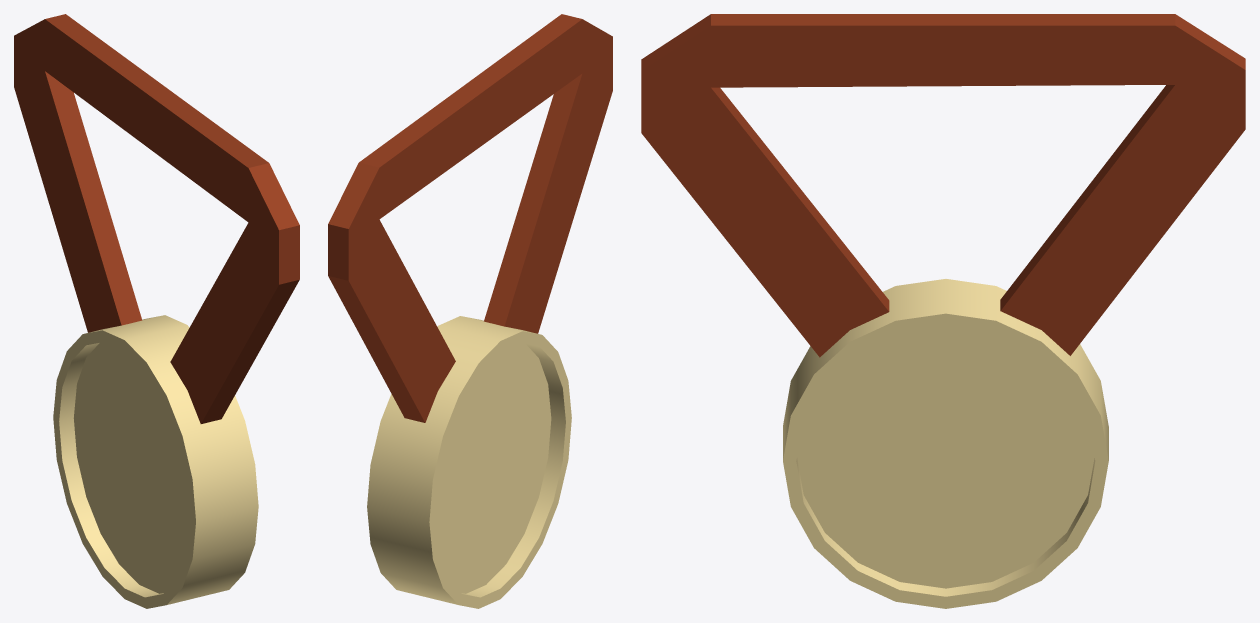
File: Medal.fbx
The picture shows the model from 3 angles, left to right: view 1: azimuth 30°, elevation 25°; view 2: azimuth 150°, elevation 25°; view 3: azimuth 270°, elevation 25°; orthographic projection. The views are drawn at different scales.
Visible parts, largest first — view 1: pCube4; view 2: pCube4; view 3: pCube4.
Part boxes in pixels (x1,y1,x2,y2): pCube4: [14, 14, 299, 608]; pCube4: [328, 14, 612, 608]; pCube4: [641, 14, 1245, 608].
Bounding box in the file's own units: 0.1289 × 0.987 × 0.9453.
